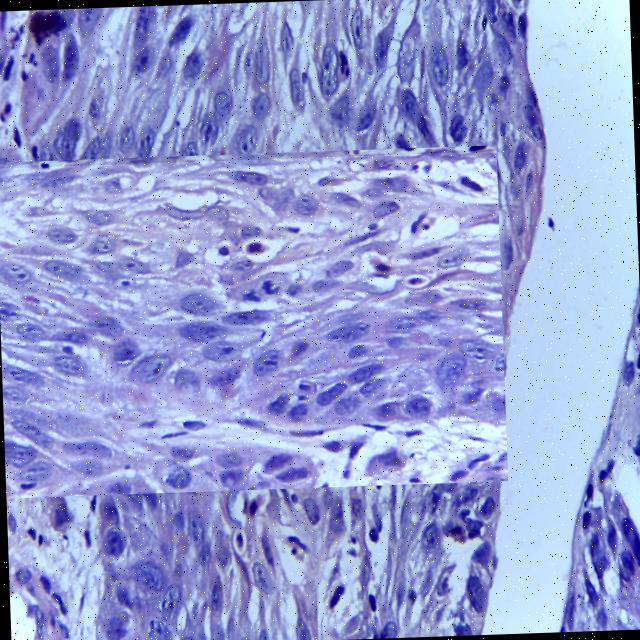Multiple Nucleol: (0, 167, 504, 496)
